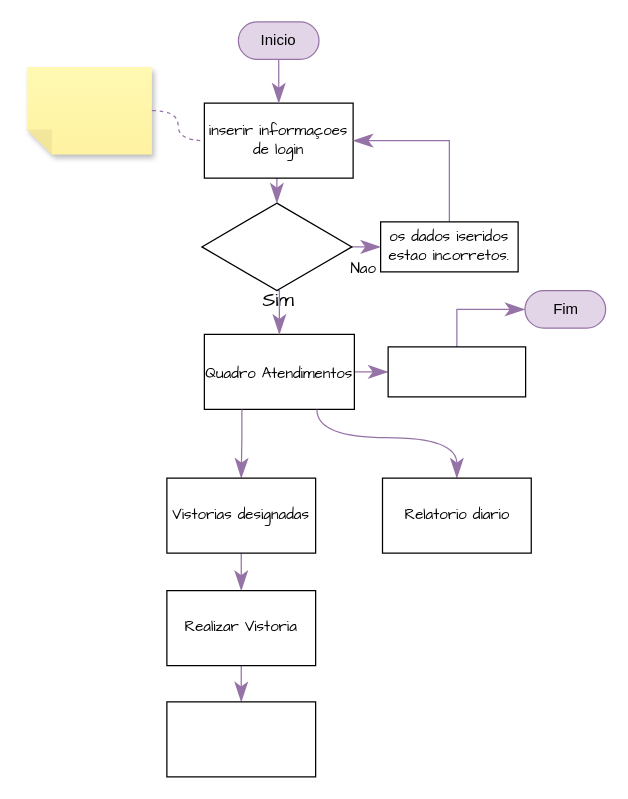
Image size: 628x799. Some labels were removed from this diagram. The shapes that lost their labels are listed below. From the top down, each one's centre as x and y in pixels, then its label:
At point (90, 111): "Informaçoes de login gerados pela area administrativa".
At point (276, 246): "dados corretos ?".
At point (456, 371): "Encerrar o sistema".
At point (241, 739): "Adiciona Status veiculo".
